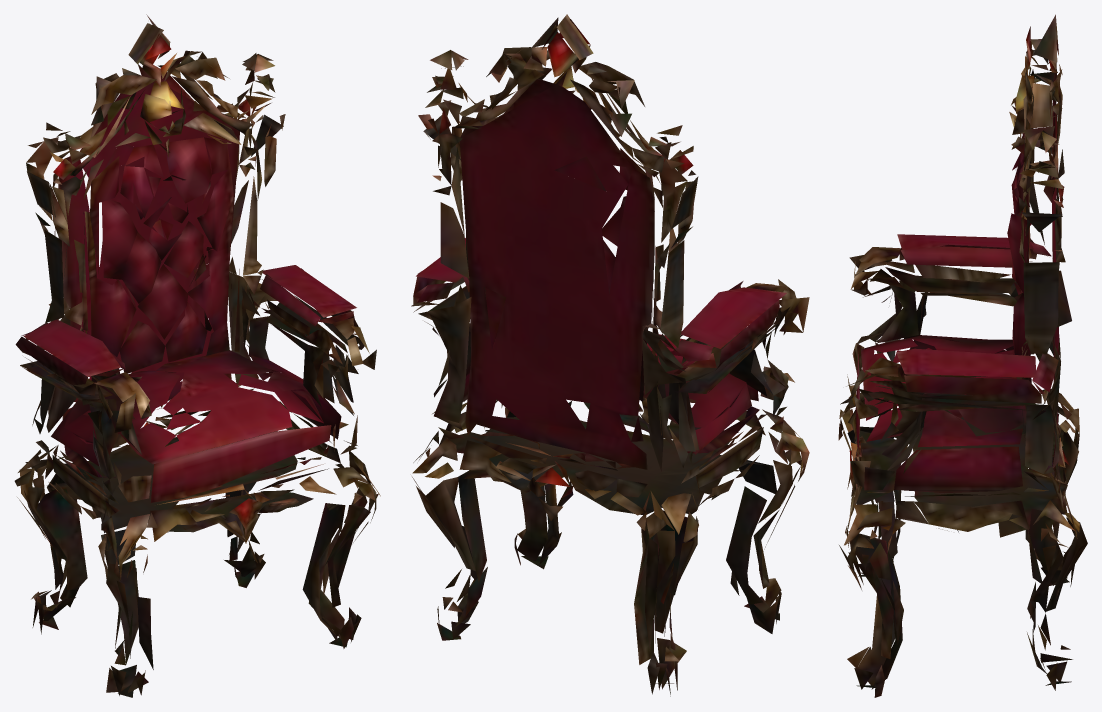
File: chair_low.glb
3 views of the same model, side by side, from view 1: azimuth 30°, elevation 25°; view 2: azimuth 150°, elevation 25°; view 3: azimuth 270°, elevation 25° (orthographic). The views are drawn at different scales.
Visible parts, largest first — view 1: Mesh_0; view 2: Mesh_0; view 3: Mesh_0.
Boxes of the visible parts, x1,y1,x2,y2 form: Mesh_0: [14, 14, 380, 697]; Mesh_0: [411, 14, 809, 696]; Mesh_0: [838, 14, 1087, 697].
Size of the model in its own units: 0.5324 by 1.08 by 0.3907.
Materials: 1 (1 with a texture image).
